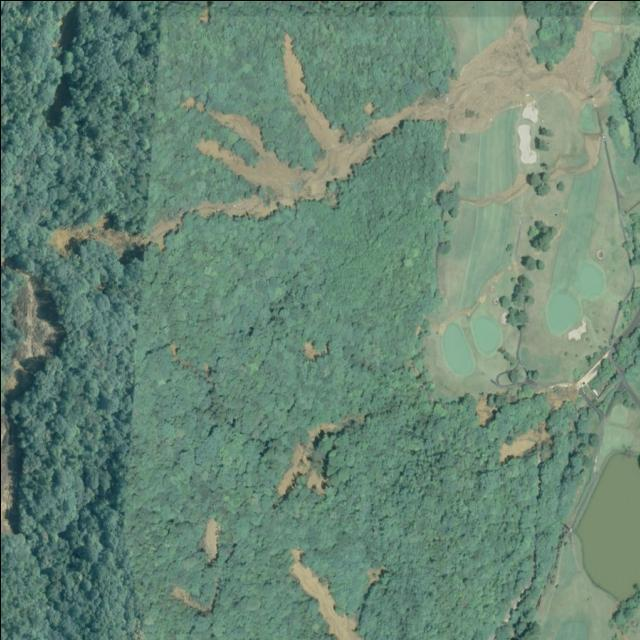landslide: (196, 97, 449, 205), (444, 2, 627, 133), (0, 273, 64, 536), (277, 413, 364, 496), (290, 548, 362, 640), (283, 33, 338, 134), (48, 215, 147, 256), (447, 2, 511, 45), (461, 165, 525, 204), (500, 422, 550, 462), (194, 194, 276, 217), (143, 212, 181, 249), (196, 197, 255, 215), (200, 518, 219, 562)
